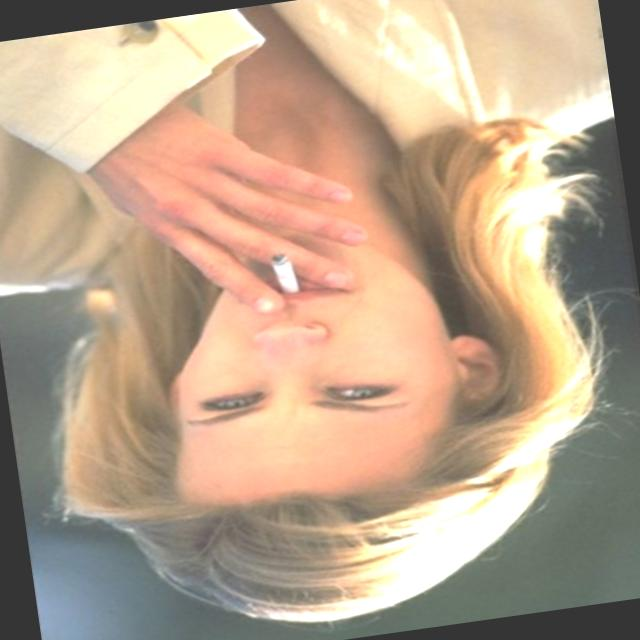smoke: (252, 238, 318, 308)
